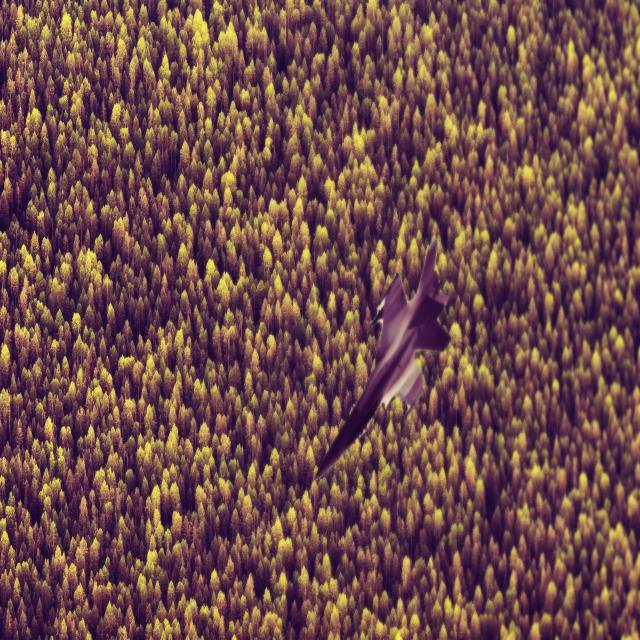airplane: (314, 237, 451, 481)
